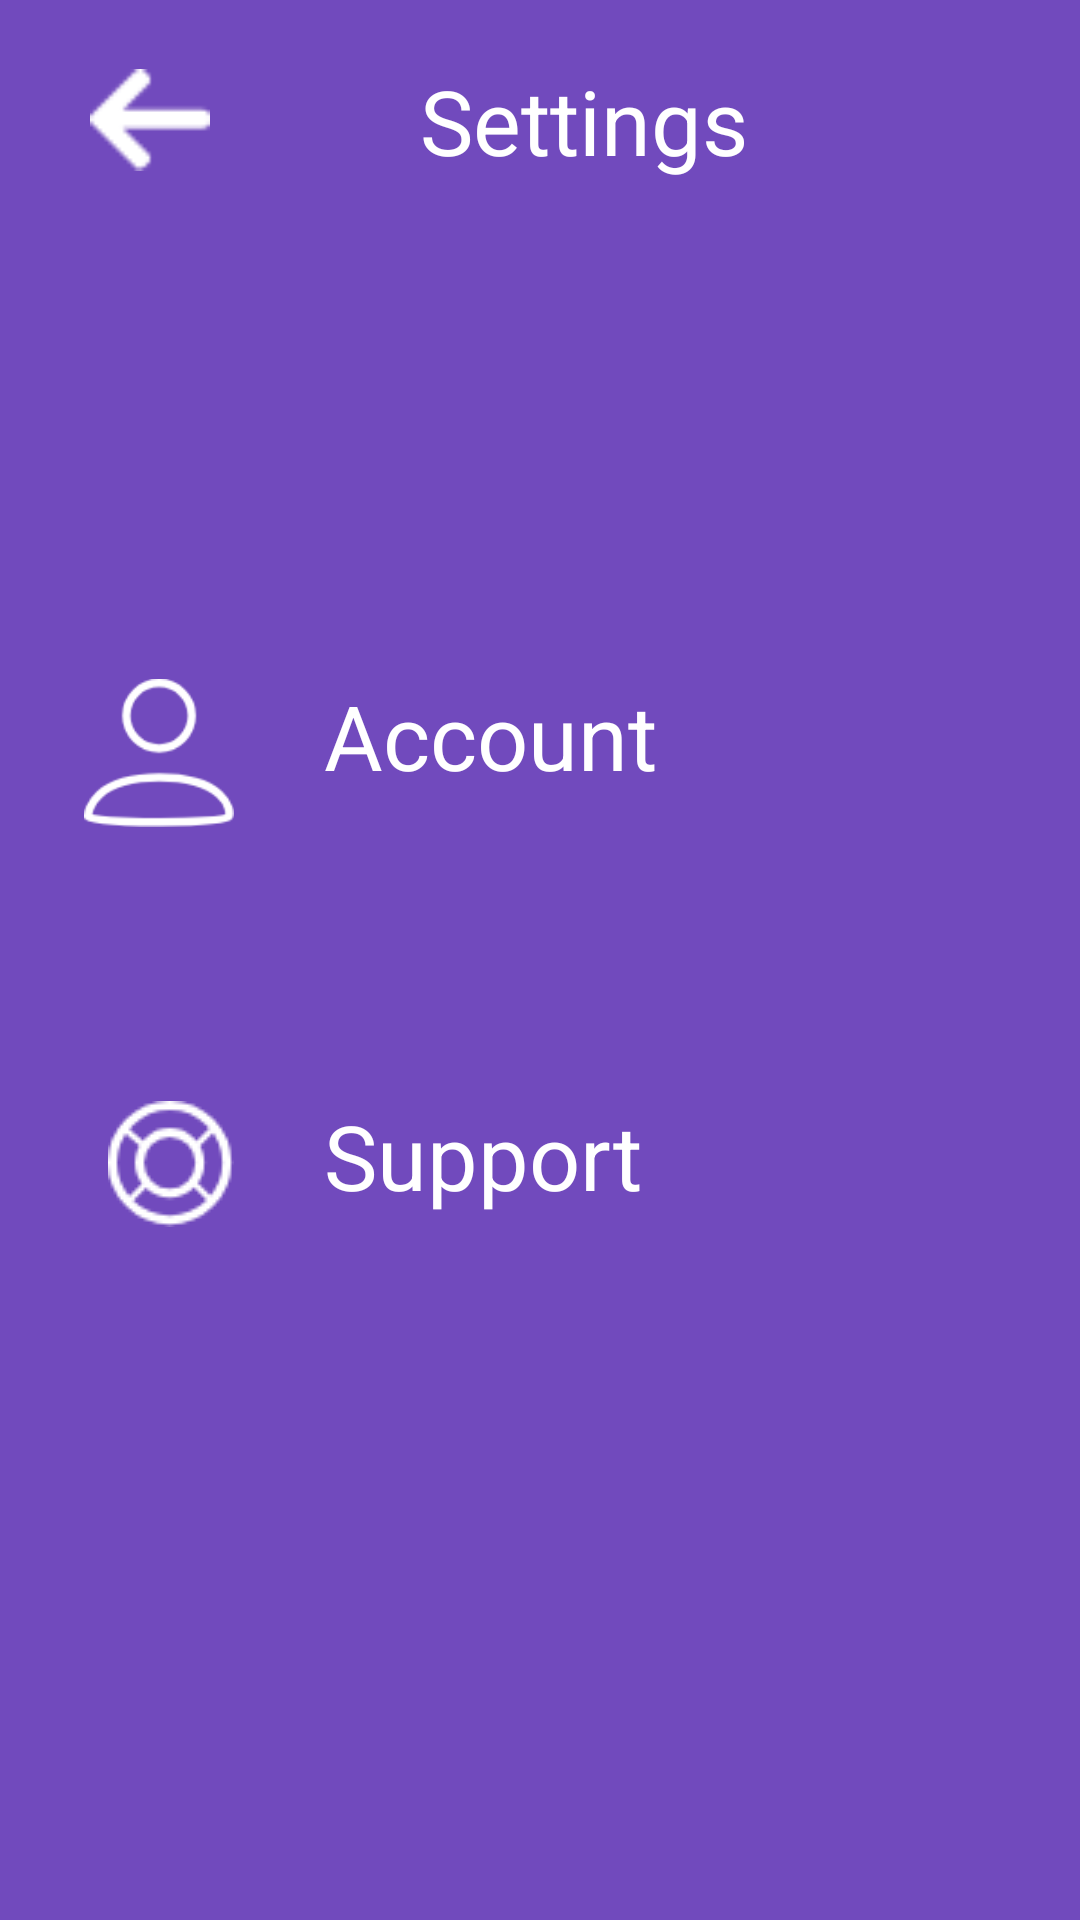

Icon bounding boxes for this 1080w x 1920h phone screenshot, format [x1,y1,x2,y2]:
back: [90,69,210,171]
